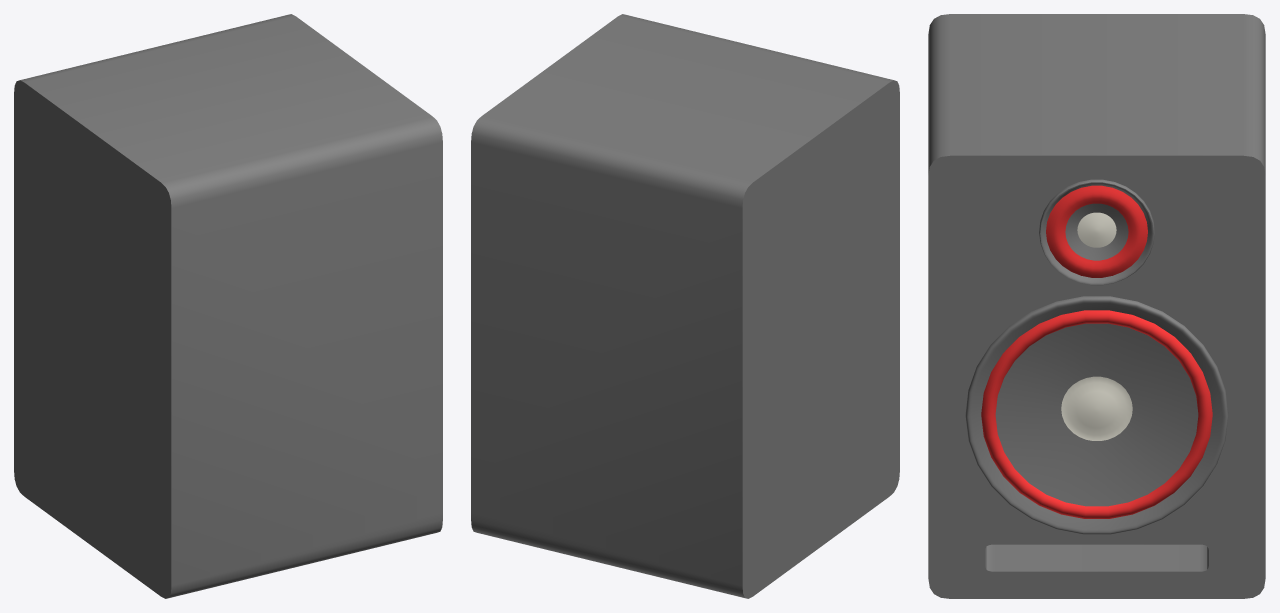
File: Lautsprecher.fbx
The picture shows the model from 3 angles, left to right: view 1: azimuth 30°, elevation 25°; view 2: azimuth 150°, elevation 25°; view 3: azimuth 270°, elevation 25°; orthographic projection. The views are drawn at different scales.
Parts seen in each view (by area): view 1: Box002; view 2: Box002; view 3: Box002.
Part boxes in pixels (box(x1,y1,x2,y2)): Box002: box(14, 14, 442, 598); Box002: box(471, 14, 899, 598); Box002: box(928, 14, 1265, 598).
Size of the model in its own units: 52.6 by 75.53 by 52.06.
